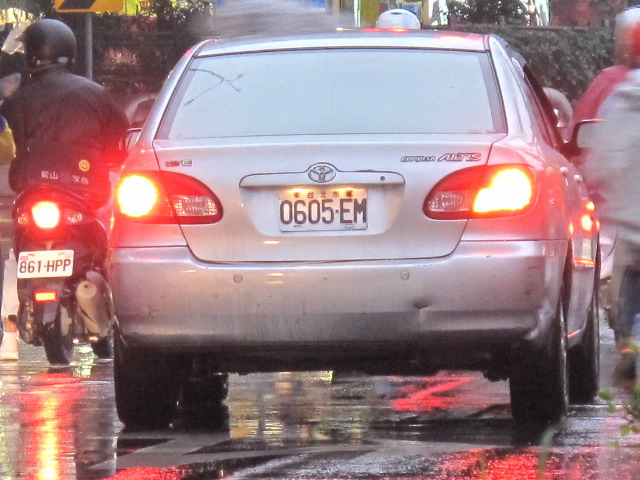plate: (276, 189, 370, 236), (15, 246, 77, 280)
